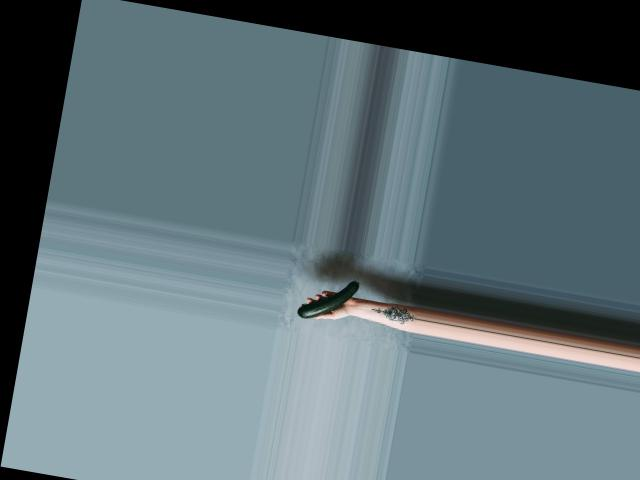cucumber: (296, 271, 359, 325)
